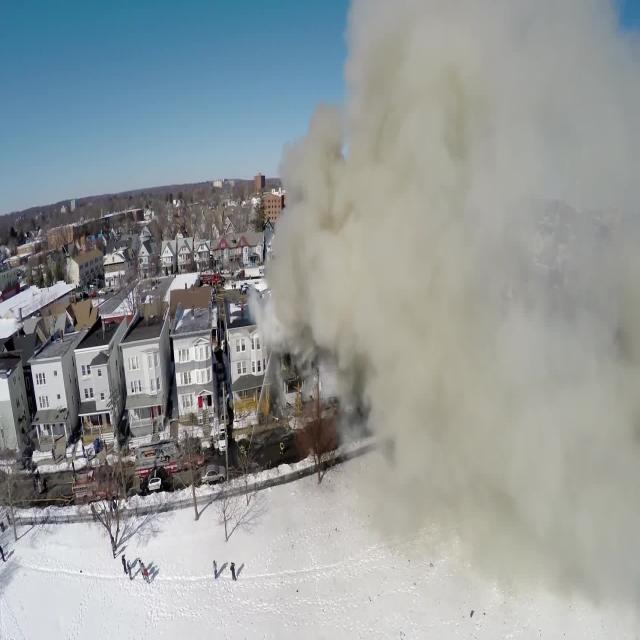Smoke: (257, 0, 640, 612)
